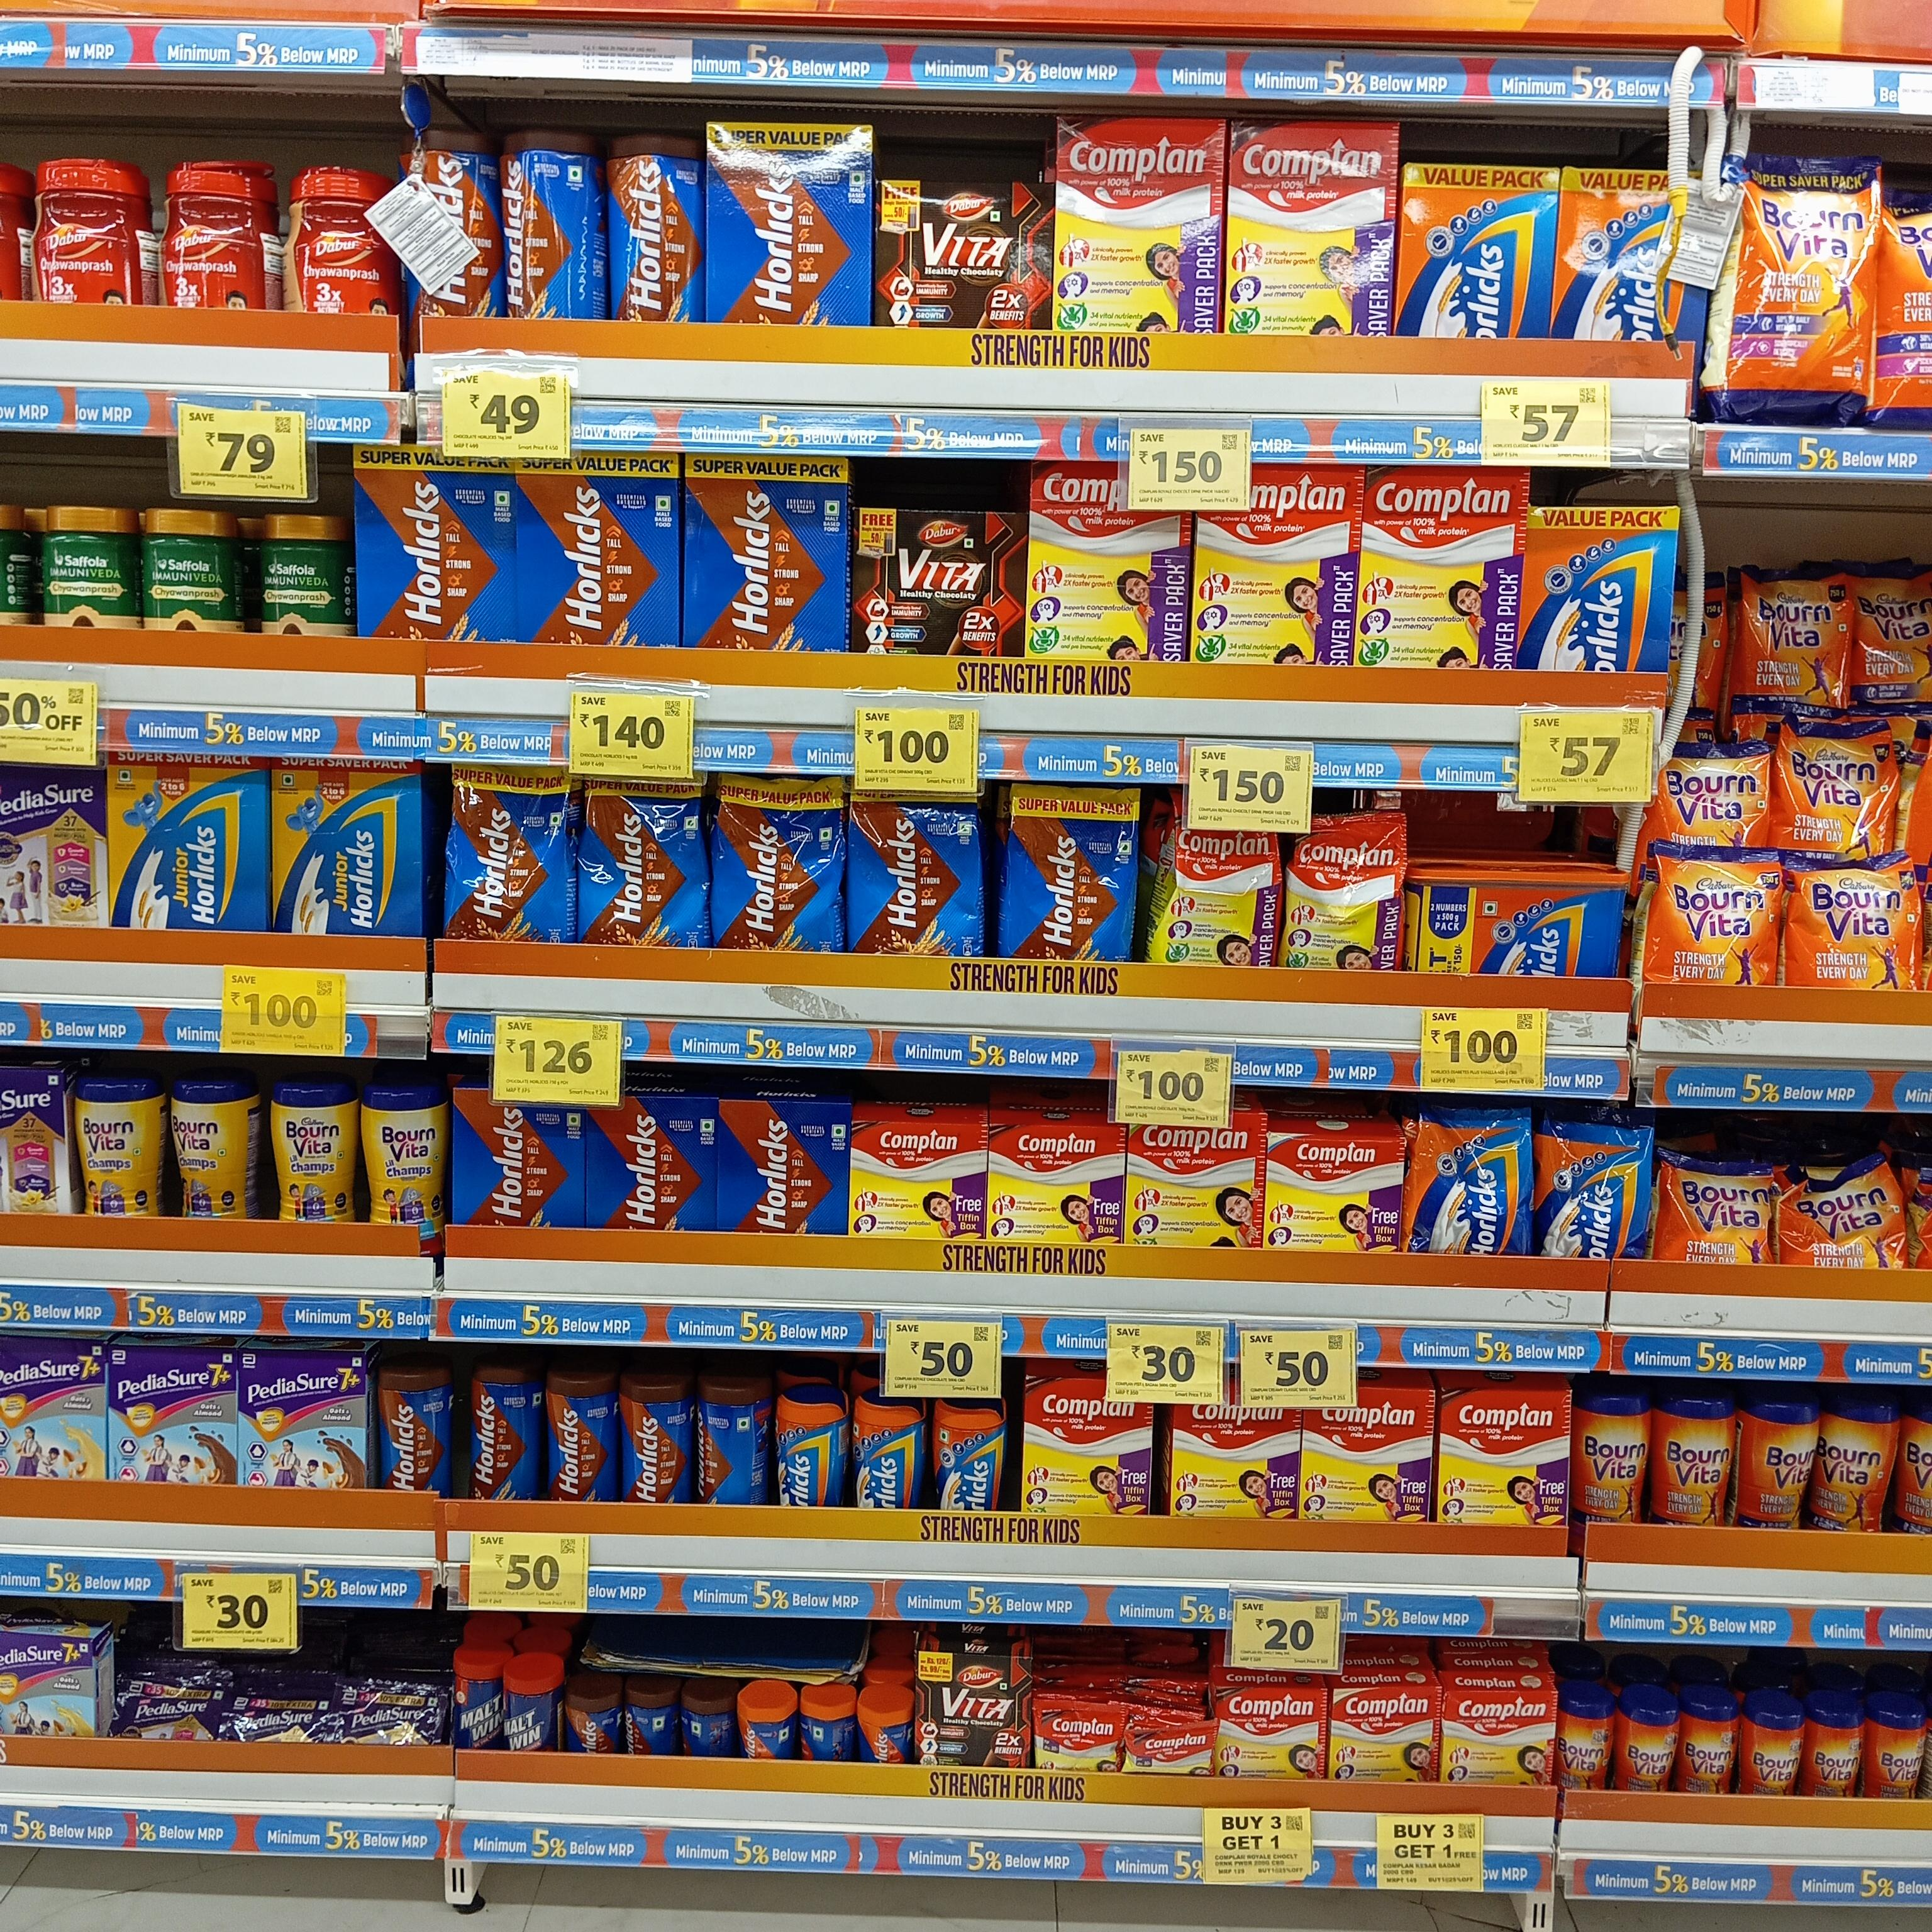BOURN_VITA_1_KG_POUCH: (1736, 150, 1874, 423)
BOURN_VITA_200_G_JAR: (1865, 1702, 1932, 1803), (1743, 1704, 1805, 1806), (1684, 1695, 1741, 1798), (1621, 1690, 1677, 1790), (1555, 1693, 1610, 1783), (1812, 1704, 1863, 1799)
BOURN_VITA_500_G_JAR: (1575, 1384, 1652, 1527), (1821, 1392, 1895, 1534), (1658, 1399, 1730, 1532), (1753, 1398, 1817, 1534)
BOURN_VITA_500_G_POUCH: (1656, 1155, 1773, 1265), (1787, 1173, 1904, 1274)
BOURN_VITA_750_G_POUCH: (1652, 846, 1778, 989), (1790, 856, 1921, 993), (1783, 713, 1891, 853), (1743, 571, 1845, 709)
BOURN_VITA_CHAMPS_500_G_JAR: (76, 1074, 163, 1221), (271, 1083, 354, 1224), (170, 1079, 249, 1226), (368, 1086, 444, 1233)
COMPLAN_CHOCOLATE_1_KG_PACK: (1054, 113, 1215, 334), (1230, 120, 1391, 336), (1362, 464, 1522, 671), (1191, 469, 1352, 665), (1033, 465, 1185, 662)
COMPLAN_CHOCOLATE_200_GMS_PACK: (1219, 1686, 1325, 1782)
COMPLAN_CHOCOLATE_500_GMS_PACK: (1023, 1376, 1150, 1513), (1438, 1389, 1562, 1525), (849, 1118, 987, 1240), (989, 1123, 1120, 1246)
COMPLAN_CREAMY_CLASSIC_500_G_PACK: (1265, 1132, 1405, 1251)
COMPLAN_KESAR_BADAM_200_GMS_PACK: (1332, 1688, 1438, 1783)
COMPLAN_RC_POUCH_700_GMS_12: (1290, 814, 1401, 971), (1173, 828, 1283, 966)
HORLICK_CHOCOLATE_1_KG_JAR: (504, 127, 605, 318), (612, 136, 701, 326), (419, 127, 499, 317)
HORLICK_CHOCOLATE_1_KG_PACK: (706, 115, 872, 326), (685, 451, 846, 658), (518, 448, 678, 649), (357, 442, 513, 640)
HORLICK_CHOCOLATE_500_G_JAR: (460, 1369, 531, 1504), (547, 1376, 621, 1502), (623, 1378, 690, 1507), (375, 1368, 442, 1490), (690, 1384, 754, 1502)
HORLICK_CHOCOLATE_500_G_PACK: (717, 1099, 844, 1240), (451, 1090, 582, 1224), (587, 1099, 713, 1231)
HORLICK_CHOCOLATE_750_G_POUCH: (715, 773, 840, 959), (1005, 780, 1134, 961), (446, 761, 571, 945), (844, 780, 975, 954), (580, 775, 702, 950)
HORLICK_CLASSIC_MALT_500_G_PACK: (1403, 166, 1555, 338), (1564, 170, 1707, 341), (1529, 506, 1670, 672), (768, 1391, 844, 1509), (931, 1396, 1003, 1513), (849, 1399, 922, 1507)
HORLICK_CLASSIC_MALT_750_G_POUCH: (1537, 1113, 1652, 1267), (1417, 1108, 1529, 1260)
HORLICK_MALT_1_KG_CONTAINER: (1410, 860, 1629, 978)
PEDIASURE_7_PLUS_CHOCOLATE_400_G_PACK: (110, 1348, 235, 1486), (239, 1350, 361, 1490)
